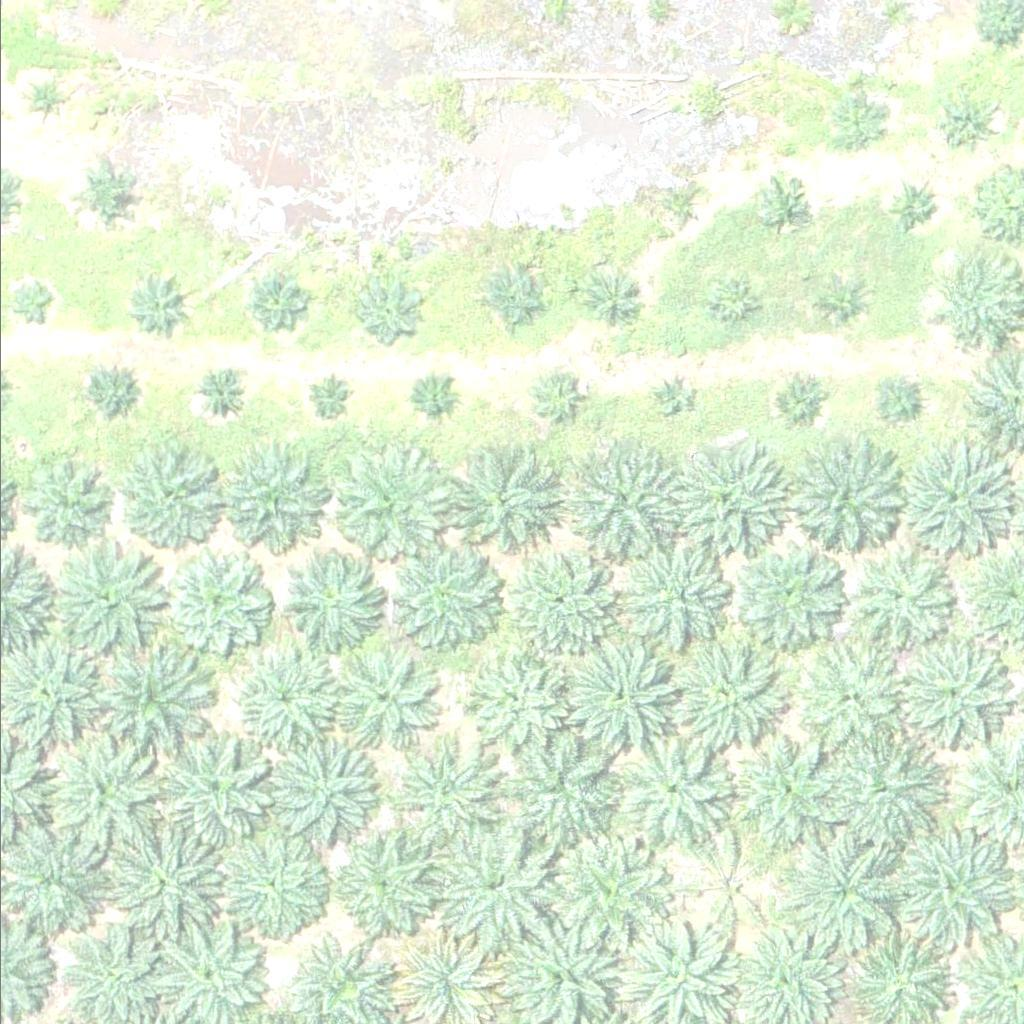Kelapa_Sawit: (85, 641, 211, 766), (895, 626, 1021, 751), (44, 546, 158, 659), (159, 544, 273, 657), (327, 448, 441, 561), (105, 827, 218, 940), (4, 813, 117, 926), (669, 445, 782, 558), (567, 446, 680, 559), (452, 446, 565, 559), (797, 642, 910, 755), (504, 729, 617, 842), (612, 737, 725, 850), (729, 733, 842, 846), (827, 727, 940, 840), (551, 833, 664, 946), (433, 829, 546, 942), (328, 825, 441, 938), (383, 538, 496, 651), (897, 833, 1011, 945), (208, 441, 322, 553), (46, 738, 159, 850), (892, 443, 1005, 555), (780, 443, 893, 555), (731, 540, 844, 652), (846, 547, 959, 659), (673, 645, 786, 757), (566, 641, 679, 753), (786, 835, 899, 947), (388, 737, 501, 849), (156, 733, 269, 845), (676, 836, 777, 936), (512, 556, 613, 656), (626, 552, 727, 652), (458, 653, 559, 753), (220, 835, 321, 935), (275, 742, 376, 842), (326, 650, 427, 750), (123, 447, 224, 547), (234, 651, 334, 751), (280, 555, 380, 655), (19, 457, 107, 545), (64, 932, 152, 1019), (932, 257, 1020, 344), (353, 275, 428, 350), (932, 92, 995, 155), (77, 162, 140, 225), (238, 271, 301, 334), (188, 361, 251, 424), (578, 271, 641, 333), (481, 270, 544, 332), (127, 272, 190, 334), (76, 358, 139, 420), (880, 180, 943, 242), (533, 373, 584, 423), (9, 279, 60, 329), (409, 369, 460, 419), (826, 99, 876, 149), (762, 175, 812, 225), (706, 277, 756, 327), (815, 278, 865, 328), (302, 373, 352, 423), (874, 375, 924, 425), (771, 376, 821, 426), (26, 82, 64, 120), (660, 192, 698, 230), (651, 375, 689, 413)
